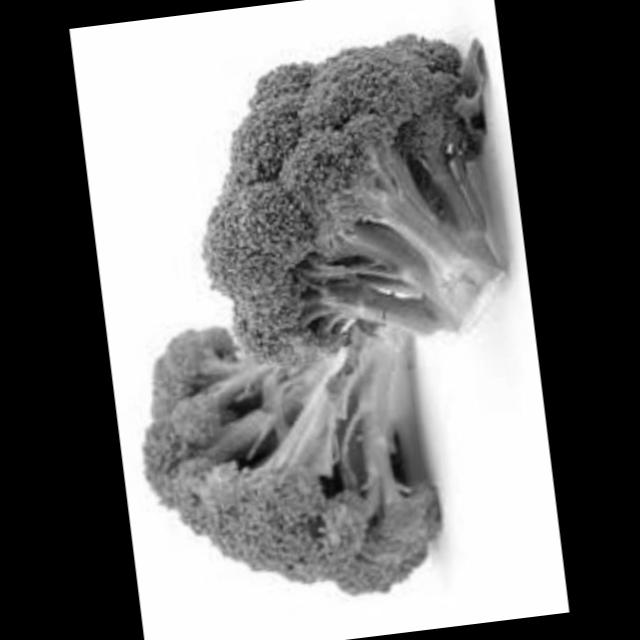broccoli: (164, 20, 529, 378), (115, 264, 457, 632)
